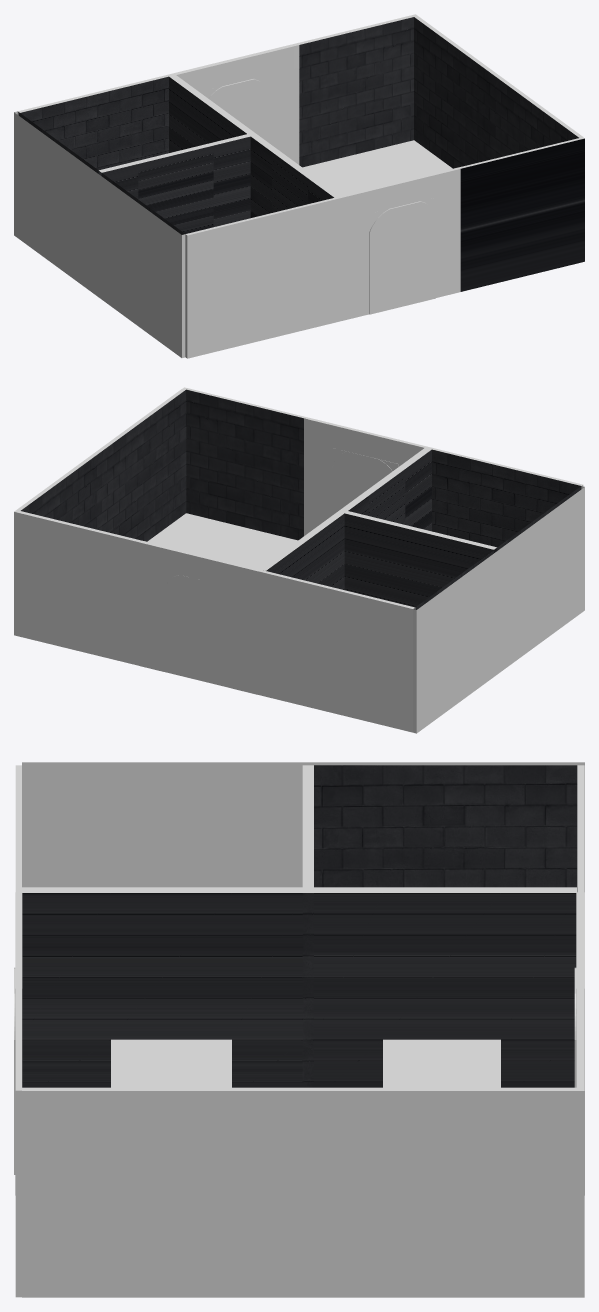
Rendered from sala_4.fbx.
The picture shows the model from 3 angles, top to bottom: view 1: azimuth 30°, elevation 25°; view 2: azimuth 150°, elevation 25°; view 3: azimuth 270°, elevation 25°; orthographic projection. The views are drawn at different scales.
Parts seen in each view (by area): view 1: paredes, puerta sala; view 2: paredes, puerta sala; view 3: paredes, puerta sala.
Part boxes in pixels (x1,y1,x2,y2): paredes: [14, 14, 584, 358]; puerta sala: [208, 79, 435, 314]; paredes: [14, 387, 584, 733]; puerta sala: [164, 575, 230, 687]; paredes: [15, 762, 584, 1297]; puerta sala: [14, 967, 576, 1174].
Bounding box in the file's own units: 682 × 201 × 501.
